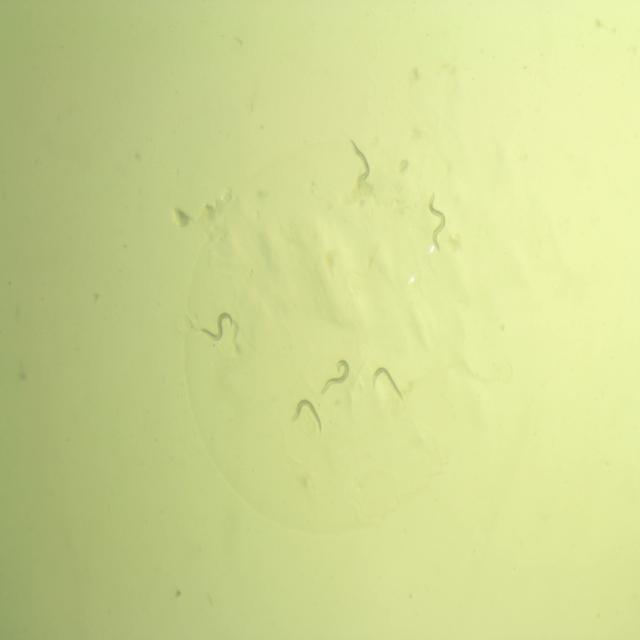worm: (370, 362, 406, 402), (318, 358, 351, 400), (426, 190, 447, 253), (198, 309, 234, 344), (290, 397, 322, 436), (348, 138, 371, 191)
